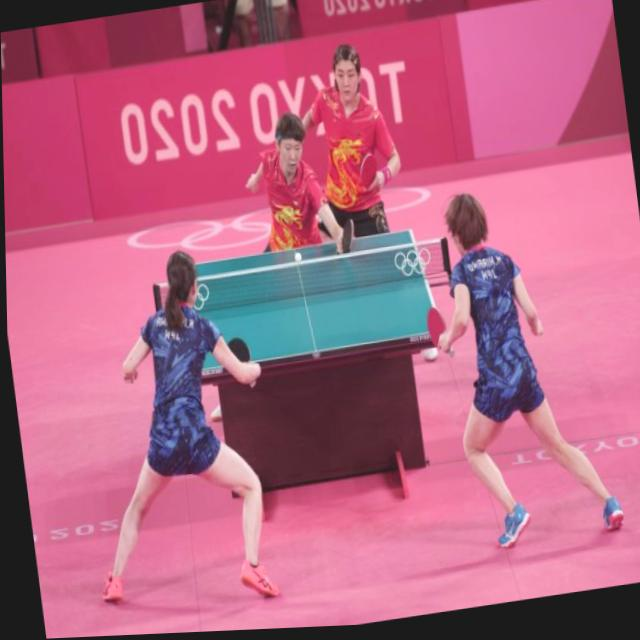TT Net: (151, 234, 453, 325)
TT Racket: (218, 328, 256, 379), (419, 298, 449, 352), (333, 212, 361, 261), (354, 146, 381, 193)
TT Table: (180, 226, 440, 371)
